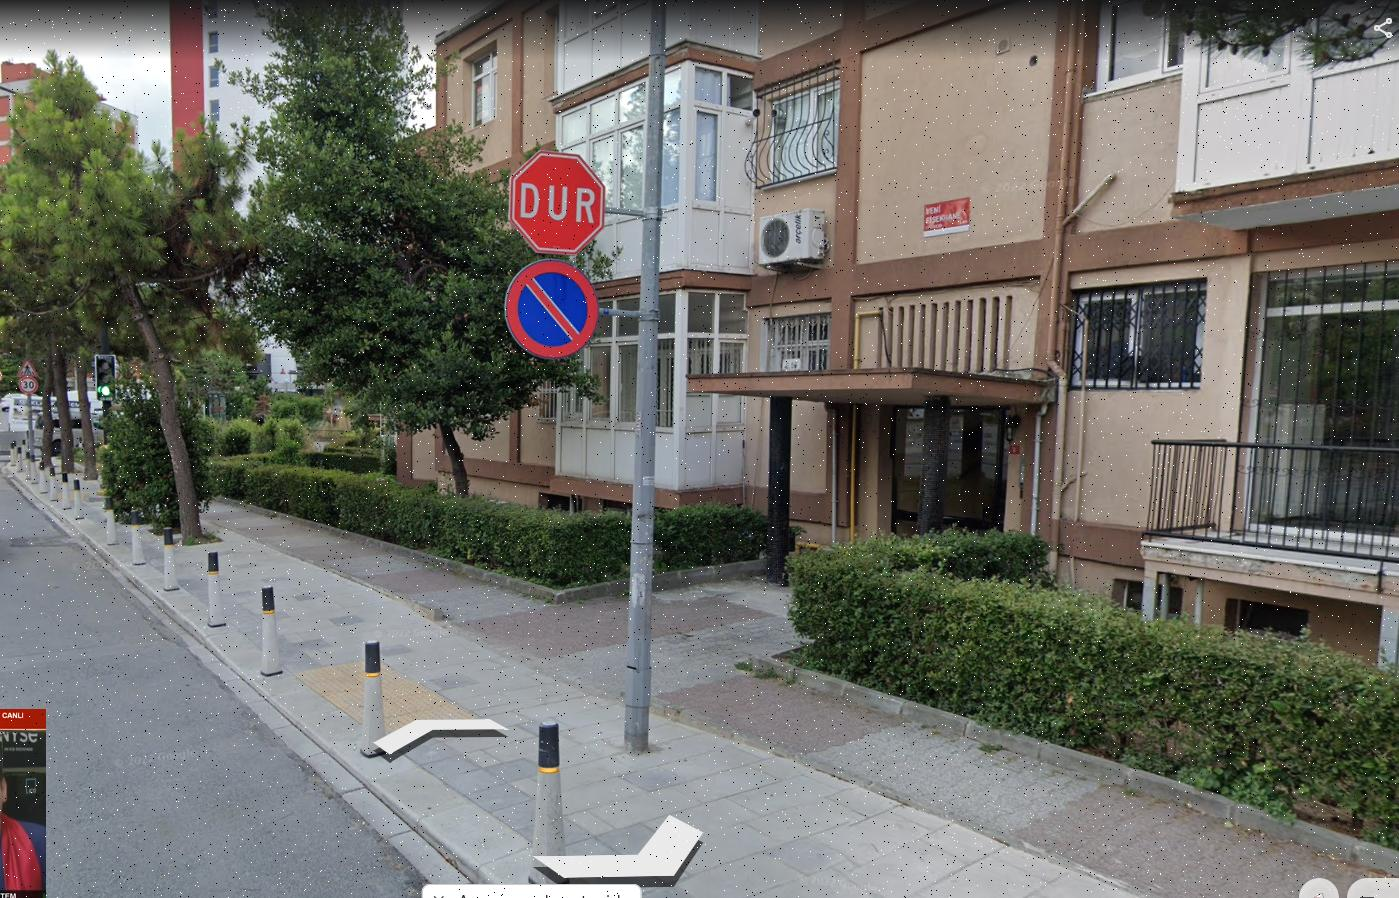nopark: (506, 265, 600, 359)
stop: (511, 154, 605, 250)
